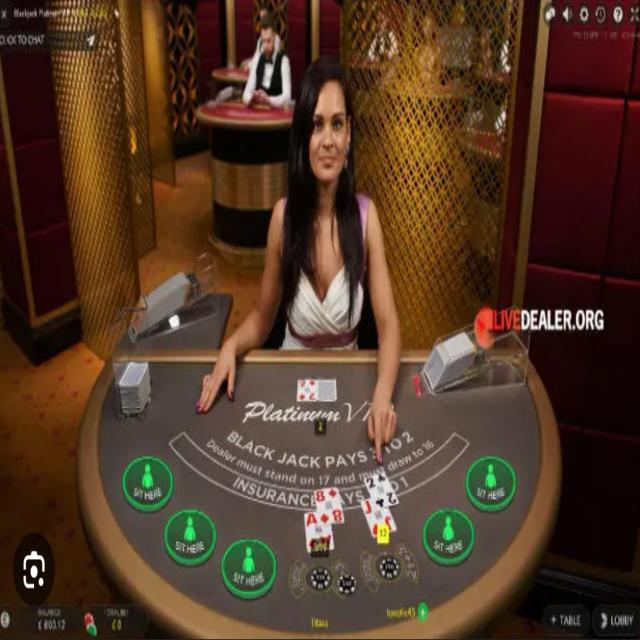Card-2: (364, 470, 399, 510)
Card-7: (297, 378, 318, 401)
Card-8: (314, 486, 345, 525)
Card-A: (304, 512, 334, 554)
Card-J: (361, 497, 397, 537)
